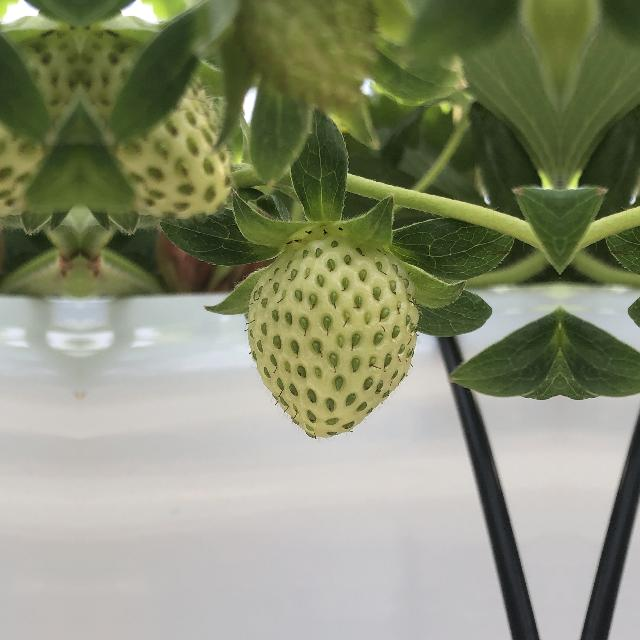Health_25: (247, 227, 421, 446)
